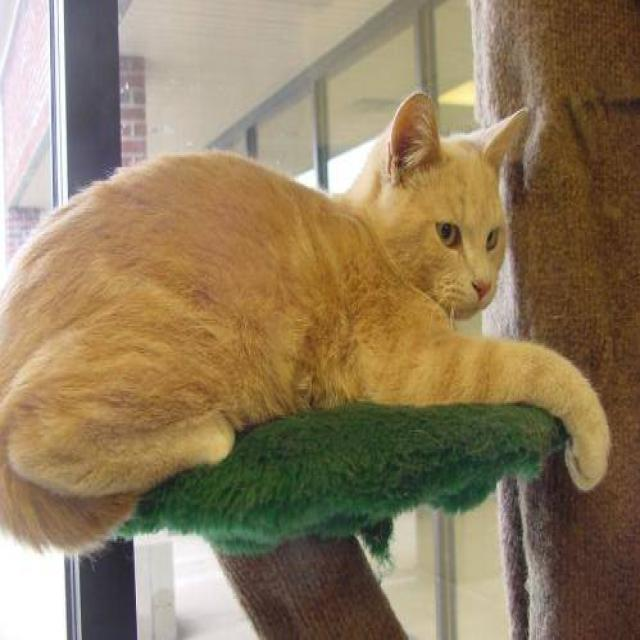cat: (0, 89, 612, 563)
